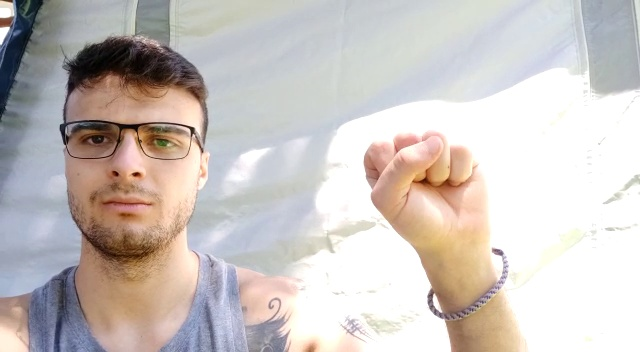Fist: (356, 127, 505, 250)
